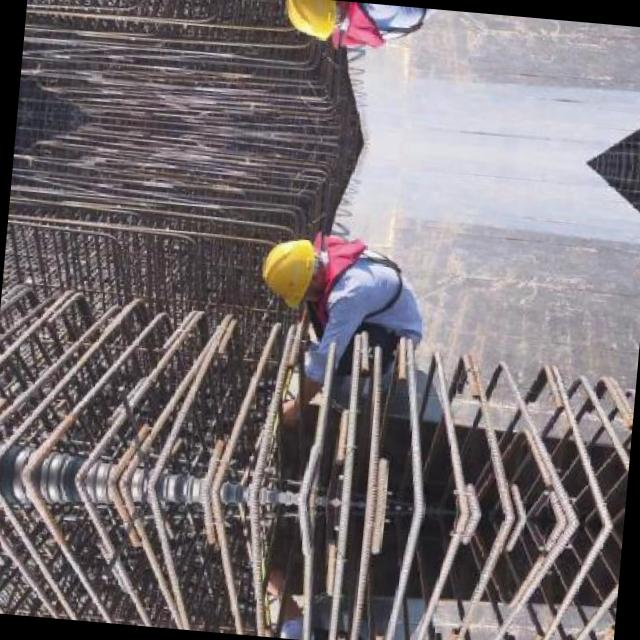helmet: (256, 234, 324, 302), (278, 0, 346, 39)
